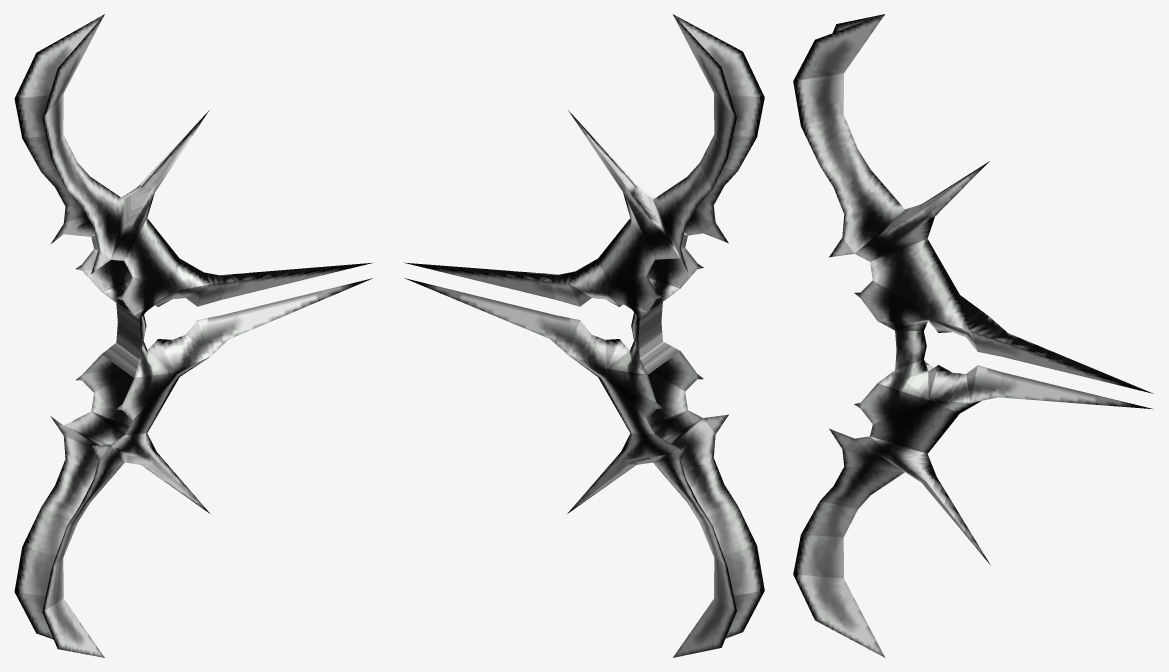
File: Bow_Gongjian_05_01.FBX
3 renders of one model, left to right at view 1: azimuth 30°, elevation 25°; view 2: azimuth 150°, elevation 25°; view 3: azimuth 330°, elevation 25°, orthographic.
Parts seen in each view (by area): view 1: Bow_Gongjian_05_v3; view 2: Bow_Gongjian_05_v3; view 3: Bow_Gongjian_05_v3.
Boxes of the visible parts, <box> form: Bow_Gongjian_05_v3: <box>14,14,373,657</box>; Bow_Gongjian_05_v3: <box>404,14,764,657</box>; Bow_Gongjian_05_v3: <box>793,14,1153,657</box>.
Bounding box in the file's own units: 96.62 × 19.69 × 171.
